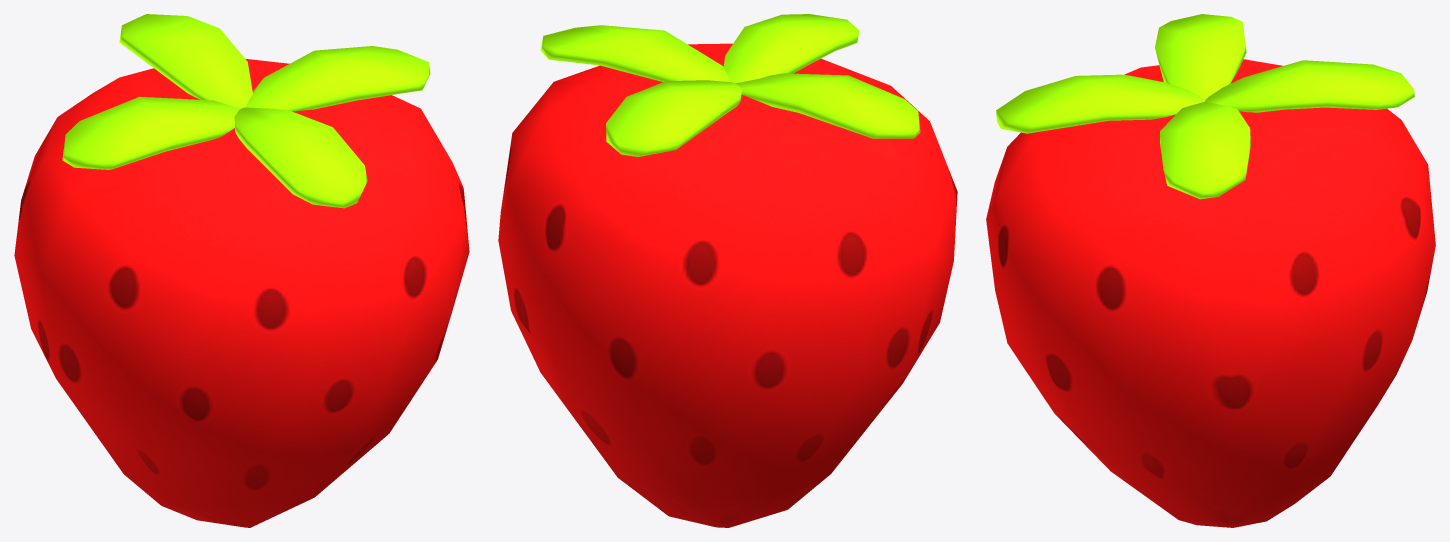
Rendered from red_strawberry.glb.
3 views of the same model, side by side, from view 1: azimuth 30°, elevation 25°; view 2: azimuth 150°, elevation 25°; view 3: azimuth 270°, elevation 25° (orthographic). The views are drawn at different scales.
Parts seen in each view (by area): view 1: Red_Strawberry; view 2: Red_Strawberry; view 3: Red_Strawberry.
Boxes of the visible parts, x1,y1,x2,y2 form: Red_Strawberry: [14, 14, 469, 527]; Red_Strawberry: [498, 14, 957, 527]; Red_Strawberry: [986, 14, 1435, 527].
Bounding box in the file's own units: 0.4079 × 0.4281 × 0.3947.
Materials: 1 (1 with a texture image).
